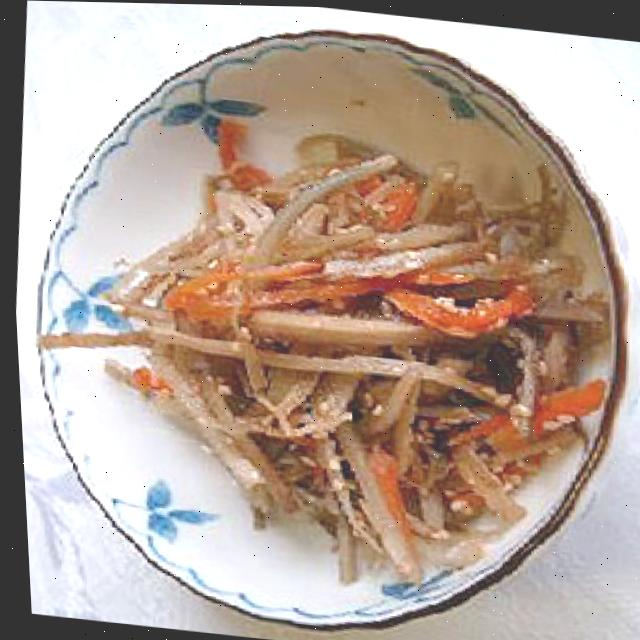蔬菜料理: (37, 1, 630, 640)
